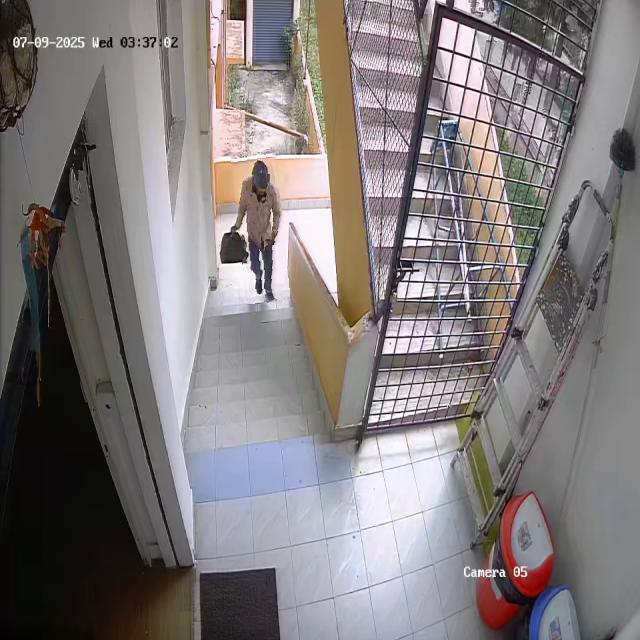person: (234, 150, 287, 304)
